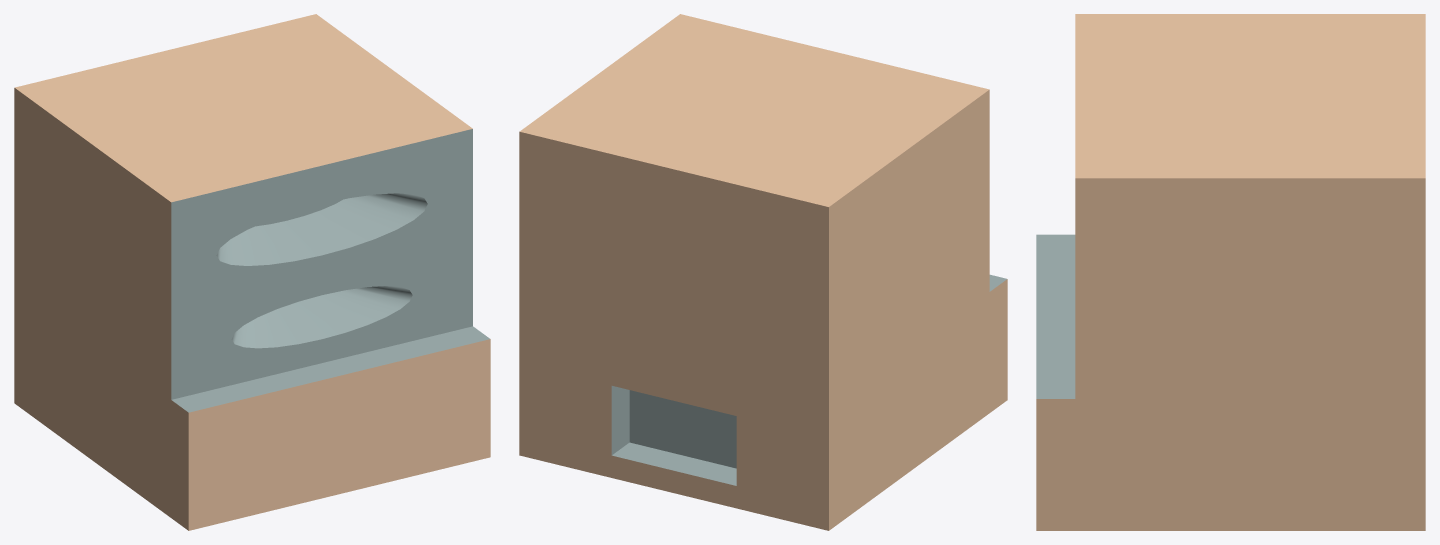
File: kn-speaker.glb
The picture shows the model from 3 angles, left to right: view 1: azimuth 30°, elevation 25°; view 2: azimuth 150°, elevation 25°; view 3: azimuth 270°, elevation 25°; orthographic projection. The views are drawn at different scales.
Visible parts, largest first — view 1: speaker(Clone); view 2: speaker(Clone); view 3: speaker(Clone).
Boxes of the visible parts, box(x1,y1,x2,y2) form: speaker(Clone): box(14, 14, 490, 530); speaker(Clone): box(519, 14, 1007, 530); speaker(Clone): box(1036, 14, 1425, 530).
Size of the model in its own units: 1 by 1 by 1.
